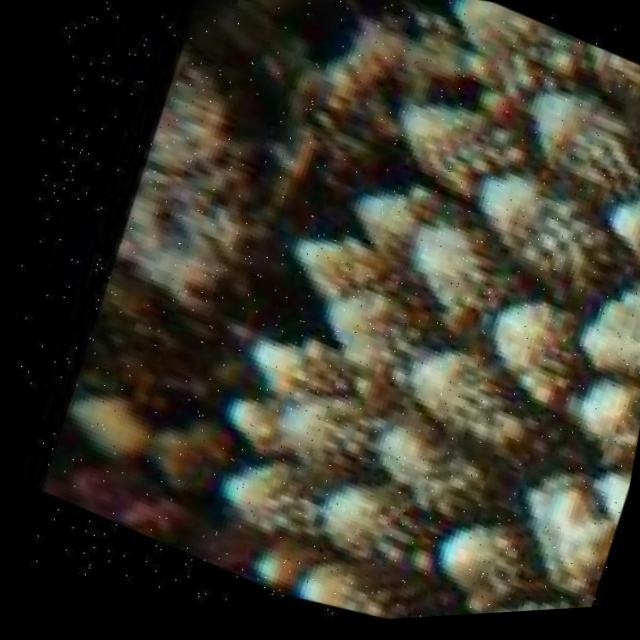Healthy Coral: (134, 0, 640, 634)
